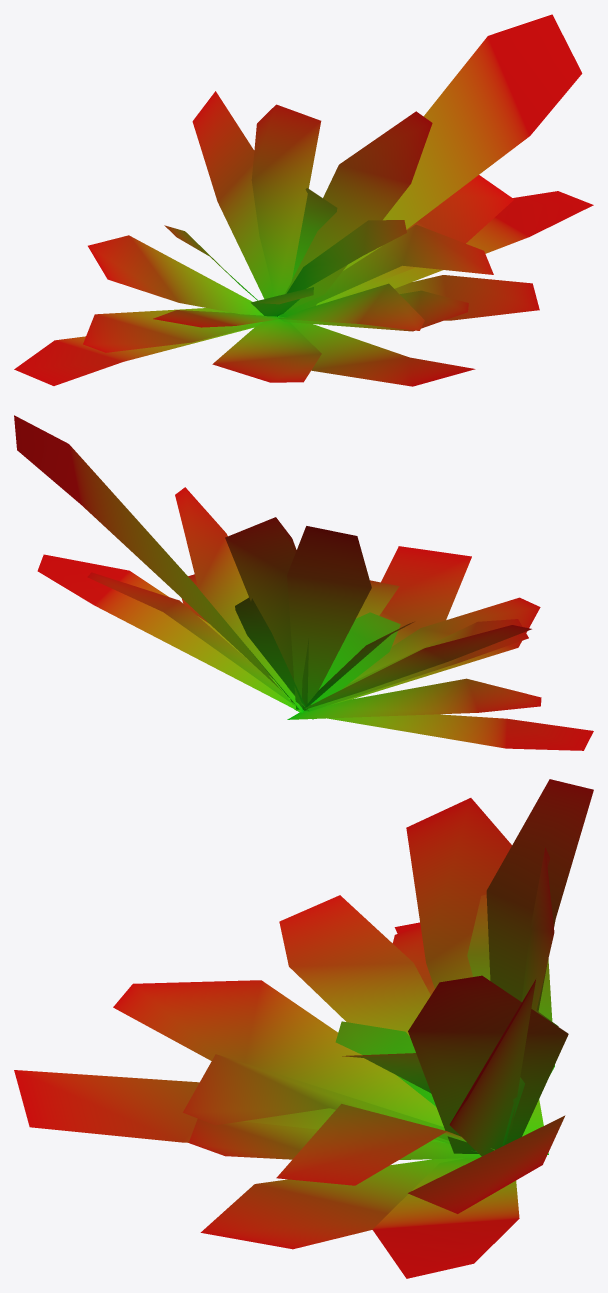
Rendered from Var26_LOD2.fbx.
3 views of the same model, one above another, from view 1: azimuth 30°, elevation 25°; view 2: azimuth 150°, elevation 25°; view 3: azimuth 270°, elevation 25° (orthographic). The views are drawn at different scales.
Parts seen in each view (by area): view 1: _mq3g_Var26_LOD2; view 2: _mq3g_Var26_LOD2; view 3: _mq3g_Var26_LOD2.
Part boxes in pixels (x1,y1,x2,y2): _mq3g_Var26_LOD2: (14,14,593,386); _mq3g_Var26_LOD2: (14,415,593,750); _mq3g_Var26_LOD2: (14,779,593,1278).
Size of the model in its own units: 21.88 by 8.84 by 12.12.
